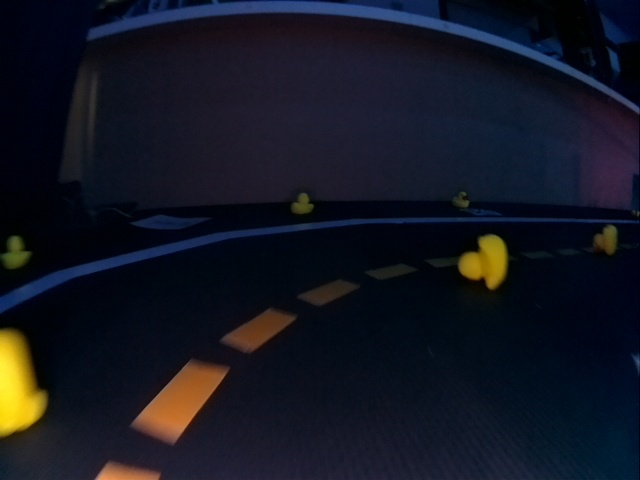Duckie: (458, 232, 509, 290), (7, 236, 31, 267), (594, 226, 618, 250), (296, 192, 314, 214), (452, 192, 468, 207)
